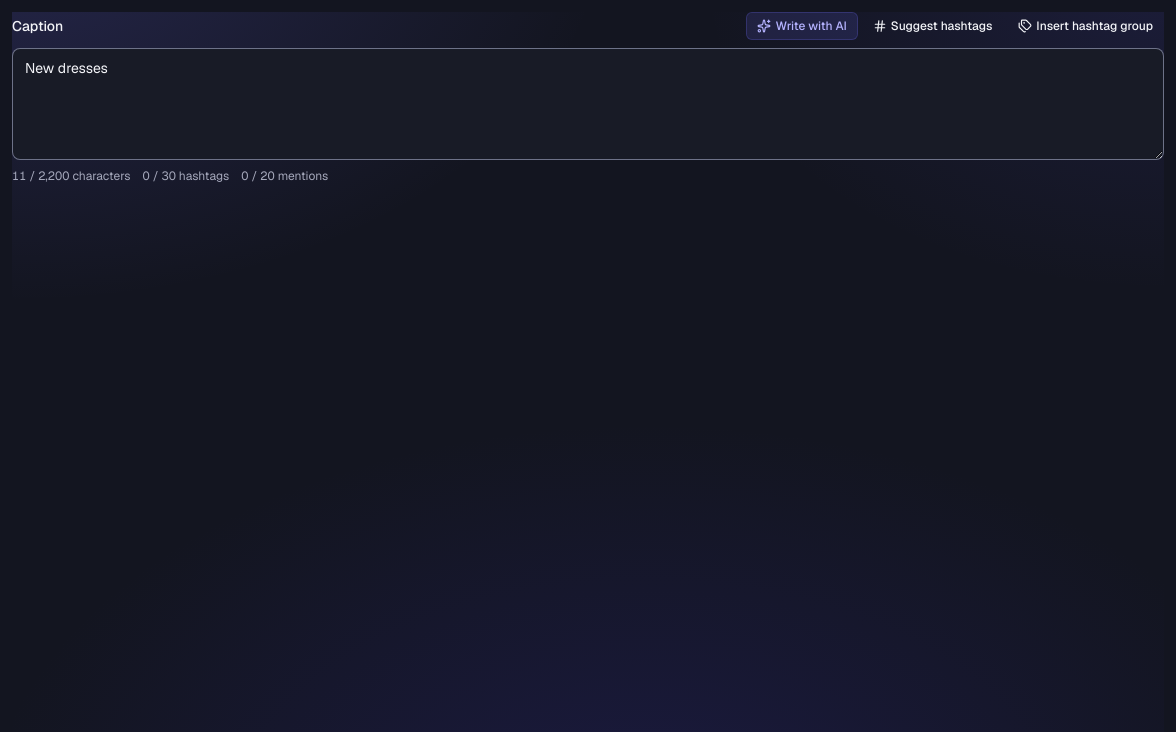
Scenario: CaptionField (UX-SCR-13, FR-PUB-10) › inserts a hashtag group; the counter includes it
Step 1. Click the button "Insert hashtag group" → (1086,26), box x1=1007 y1=12 x2=1164 y2=40
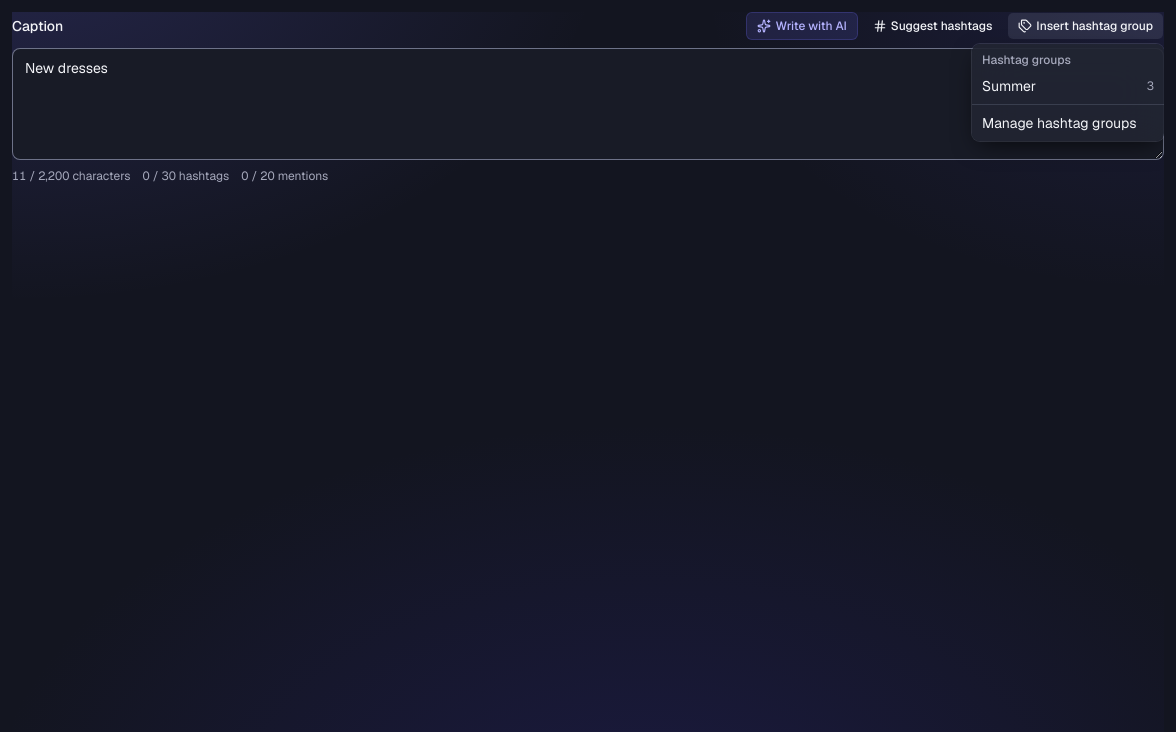
Step 2. Click the menu item "Summer 3" → (1009,86), box x1=976 y1=72 x2=1160 y2=100
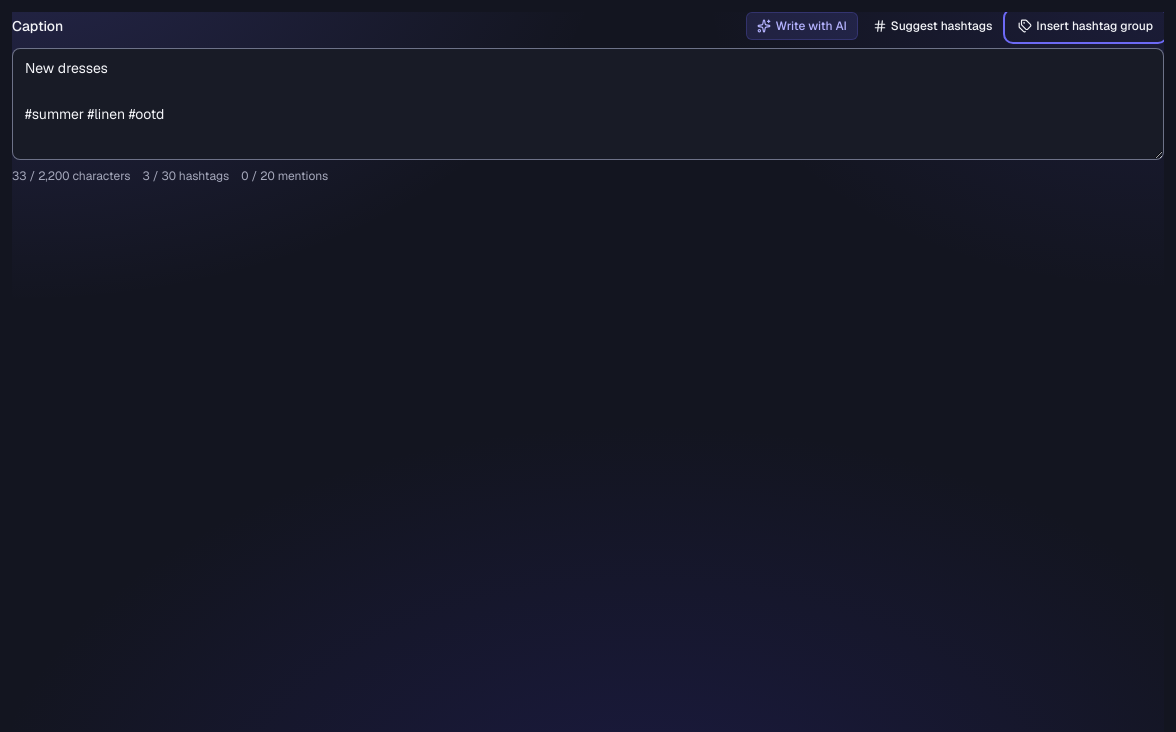
Expected: the element with test id "composer-caption-counts" shows "3 / 30 hashtags", x1=12 y1=168 x2=328 y2=184
